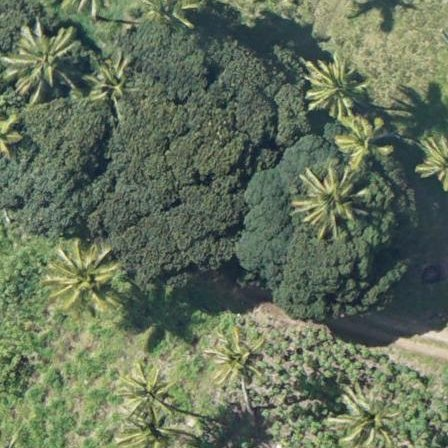palm_tree: (42, 238, 118, 317), (6, 21, 79, 95), (293, 165, 363, 236), (82, 51, 146, 119), (331, 388, 402, 448), (116, 361, 182, 423), (302, 57, 366, 118), (206, 330, 262, 384), (338, 116, 391, 167)
